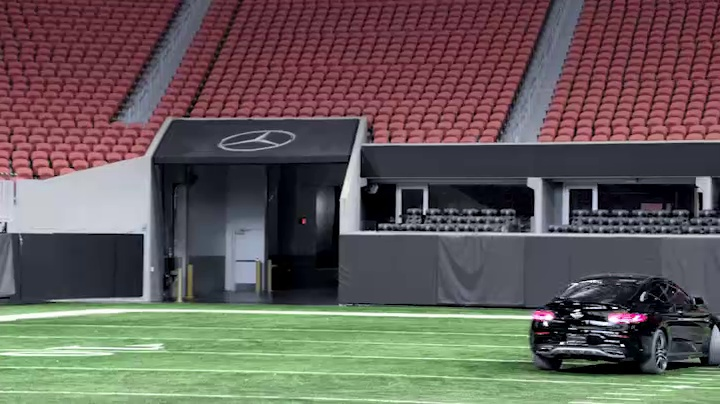amg: (529, 265, 720, 373)
